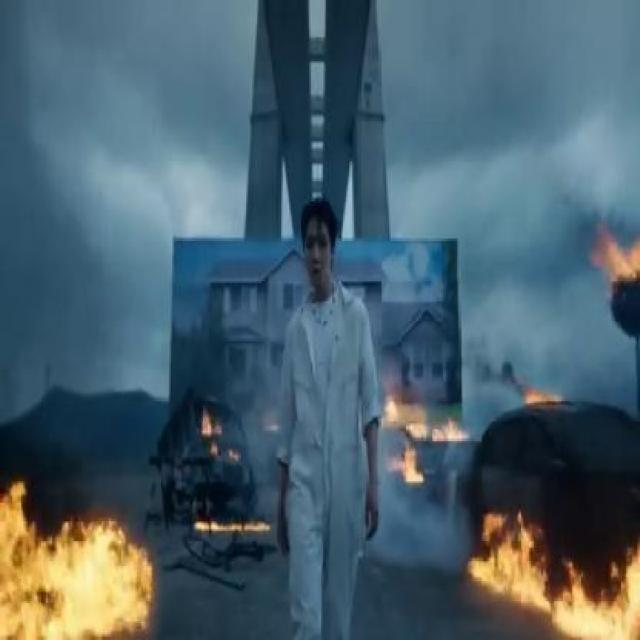fire: (0, 461, 157, 640), (480, 498, 640, 640), (382, 388, 466, 442), (594, 230, 640, 272)
smoke: (378, 464, 476, 576), (543, 283, 640, 392), (238, 372, 278, 514), (462, 366, 526, 420)
